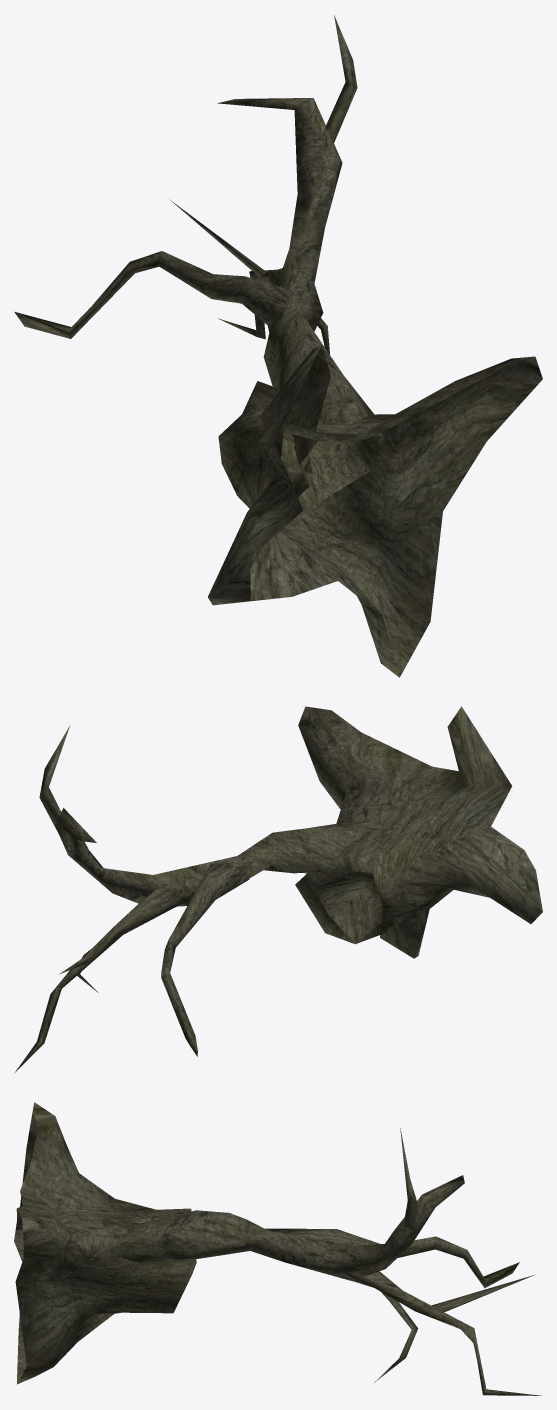
File: TI_Old_Tree_07_LOD_02.fbx
The picture shows the model from 3 angles, top to bottom: view 1: azimuth 30°, elevation 25°; view 2: azimuth 150°, elevation 25°; view 3: azimuth 270°, elevation 25°; orthographic projection. The views are drawn at different scales.
Parts seen in each view (by area): view 1: TI_Old_Tree_07_LOD_02; view 2: TI_Old_Tree_07_LOD_02; view 3: TI_Old_Tree_07_LOD_02.
Boxes of the visible parts, left/top/right/bottom form: TI_Old_Tree_07_LOD_02: left=14, top=15, right=542, bottom=677; TI_Old_Tree_07_LOD_02: left=15, top=706, right=542, bottom=1072; TI_Old_Tree_07_LOD_02: left=14, top=1102, right=541, bottom=1395.
Bounding box in the file's own units: 4.32 × 4.57 × 6.69.
